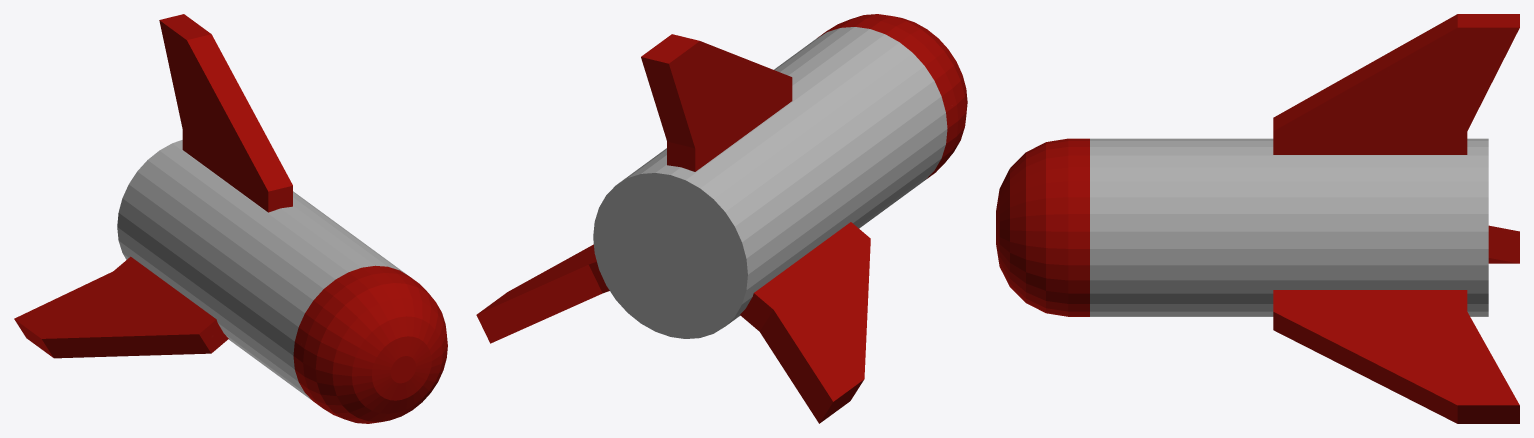
Rendered from Rocket.fbx.
3 renders of one model, left to right at view 1: azimuth 30°, elevation 25°; view 2: azimuth 150°, elevation 25°; view 3: azimuth 270°, elevation 25°, orthographic. The views are drawn at different scales.
Visible parts, largest first — view 1: Rocket; view 2: Rocket; view 3: Rocket.
Boxes of the visible parts, <box> form: Rocket: <box>14,14,447,423</box>; Rocket: <box>476,14,967,423</box>; Rocket: <box>996,14,1519,423</box>.
Size of the model in its own units: 46.73 by 40.47 by 59.49.
Materials: 1 (1 with a texture image).
